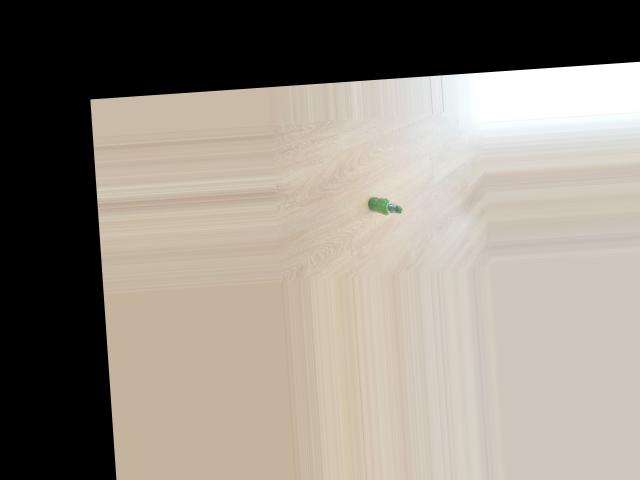beer: (367, 194, 402, 216)
